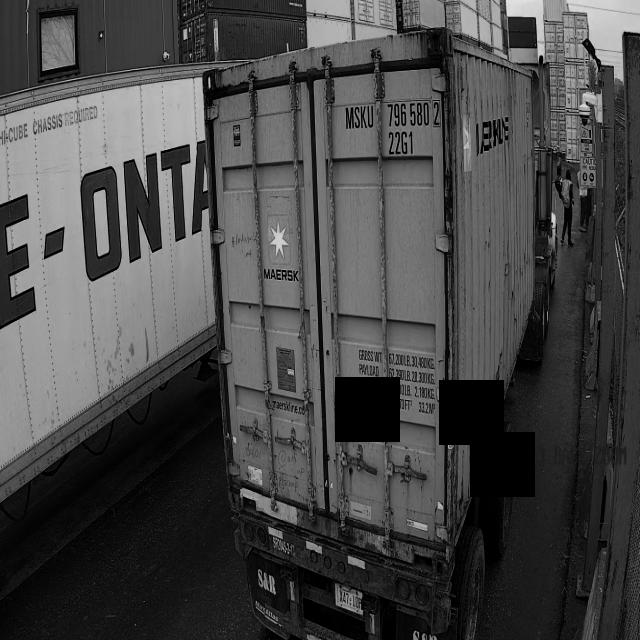container_company_logo: (247, 195, 309, 304)
container_number: (341, 92, 439, 460)
driver: (555, 169, 574, 245)
license_plate: (324, 581, 374, 622)
truck_without_container: (203, 28, 560, 640)
